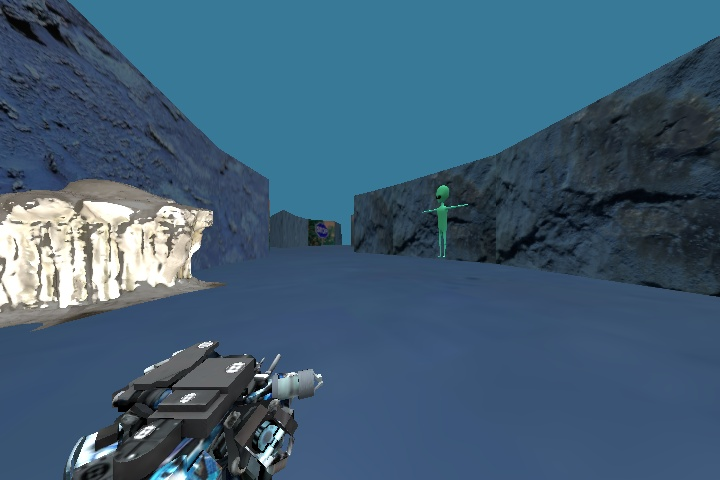formation: (1, 166, 228, 321)
green_alien: (420, 182, 473, 265)
stop_sign: (311, 218, 328, 236)
